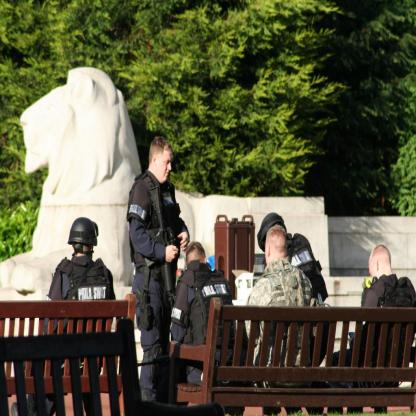Helmet: (67, 218, 98, 256)
